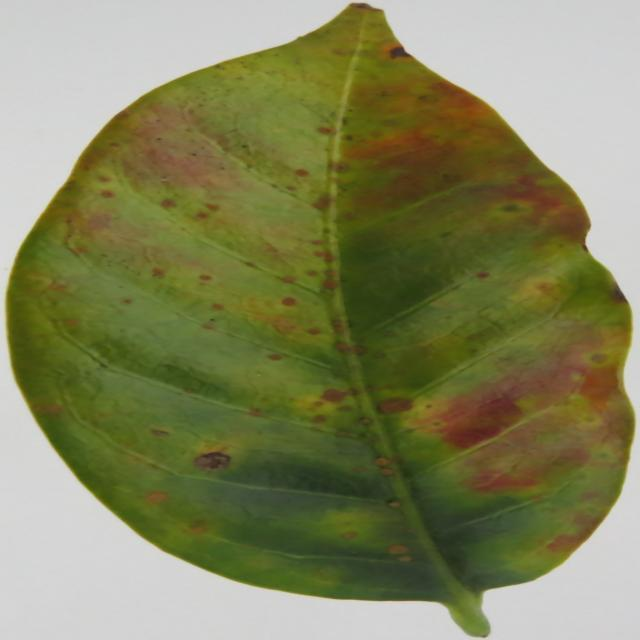DeficienciaNutricional-Fosforo: (8, 4, 632, 636)
